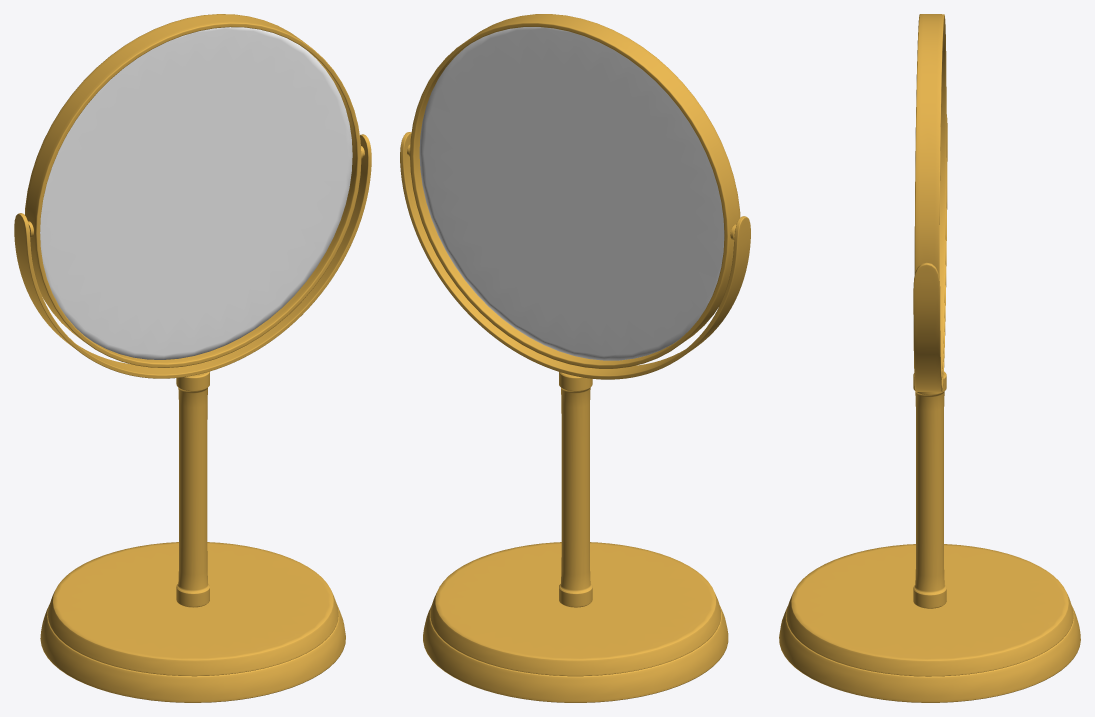
The picture shows the model from 3 angles, left to right: view 1: azimuth 30°, elevation 25°; view 2: azimuth 150°, elevation 25°; view 3: azimuth 270°, elevation 25°; orthographic projection.
Visible parts, largest first — view 1: Circle.006_AR3DMat Procedural Realistic Mirror_0, Circle_Gold metal_0; view 2: Circle.006_AR3DMat Procedural Realistic Mirror_0, Circle_Gold metal_0; view 3: Circle_Gold metal_0.
Part boxes in pixels (bbox=[...]): Circle.006_AR3DMat Procedural Realistic Mirror_0: bbox=[40, 27, 352, 359]; Circle_Gold metal_0: bbox=[14, 14, 371, 702]; Circle.006_AR3DMat Procedural Realistic Mirror_0: bbox=[419, 27, 724, 360]; Circle_Gold metal_0: bbox=[400, 14, 750, 702]; Circle_Gold metal_0: bbox=[779, 14, 1080, 702].
Bounding box in the file's own units: 1.54 × 2.65 × 1.19.
